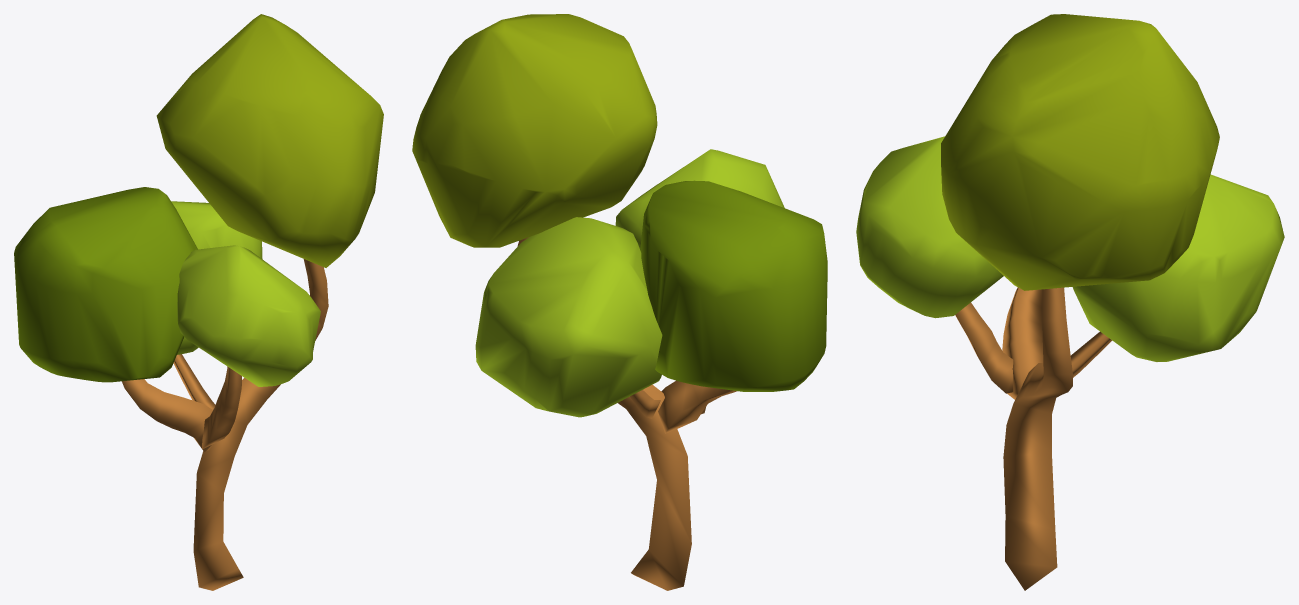
Rendered from Tree.fbx.
3 views of the same model, side by side, from view 1: azimuth 30°, elevation 25°; view 2: azimuth 150°, elevation 25°; view 3: azimuth 270°, elevation 25° (orthographic). The views are drawn at different scales.
Parts seen in each view (by area): view 1: Tree; view 2: Tree; view 3: Tree.
Part boxes in pixels (x1=…): Tree: x1=14, y1=14, x2=383, y2=590; Tree: x1=412, y1=14, x2=827, y2=590; Tree: x1=856, y1=14, x2=1284, y2=590.
Size of the model in its own units: 631 by 918 by 578.
